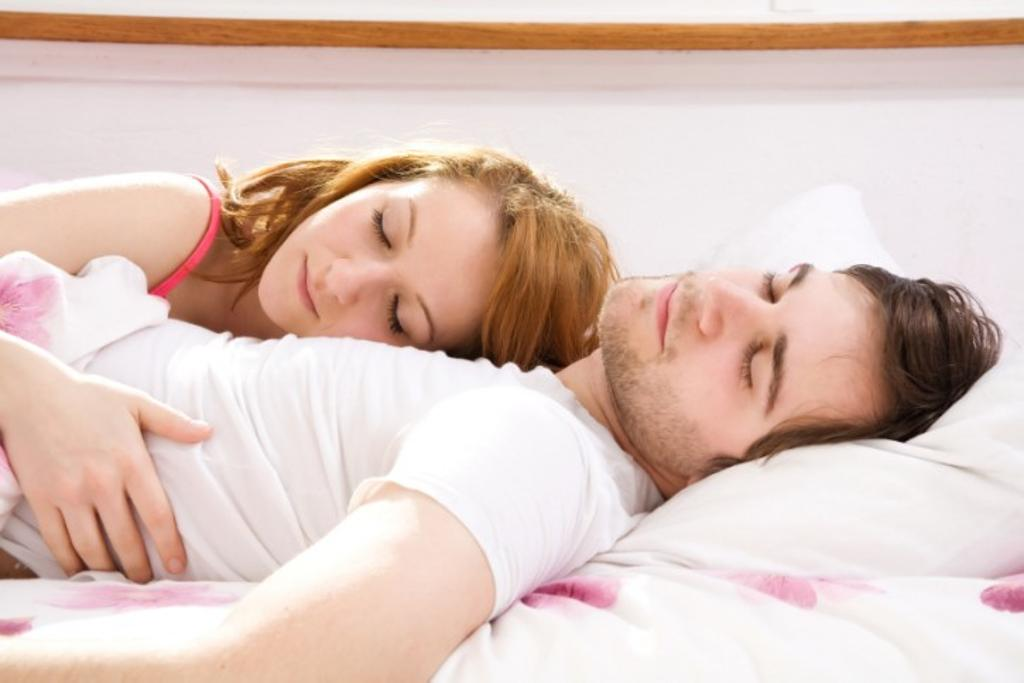face: (600, 264, 886, 460), (258, 186, 500, 350)
